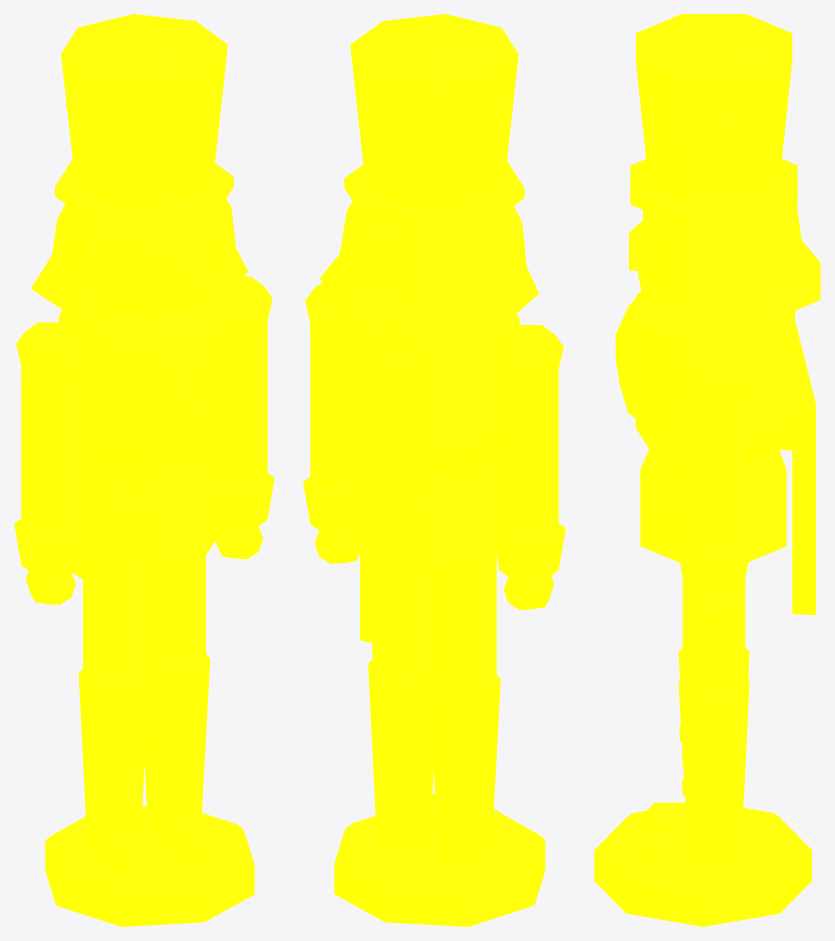
Rendered from nutcracker.glb.
3 views of the same model, side by side, from view 1: azimuth 30°, elevation 25°; view 2: azimuth 150°, elevation 25°; view 3: azimuth 270°, elevation 25° (orthographic).
Visible parts, largest first — view 1: nutcracker; view 2: nutcracker; view 3: nutcracker.
Boxes of the visible parts, <box> form: nutcracker: <box>14,14,274,926</box>; nutcracker: <box>303,14,565,926</box>; nutcracker: <box>594,14,820,926</box>.
Size of the model in its own units: 0.1516 by 0.504 by 0.1221.
1 material, 1 textured.
